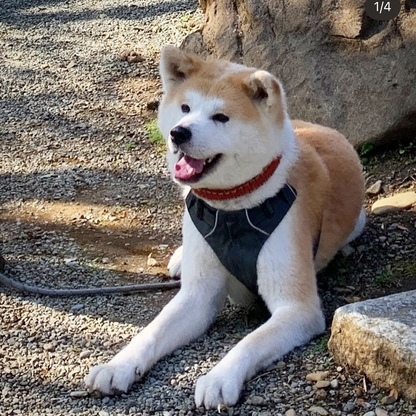akita: (80, 39, 377, 414)
